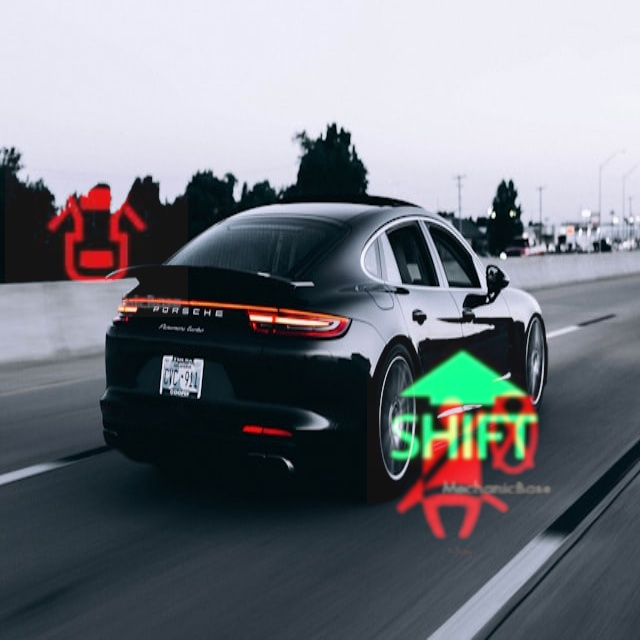symbol: (365, 362, 571, 568), (367, 312, 559, 504), (5, 134, 188, 317)
